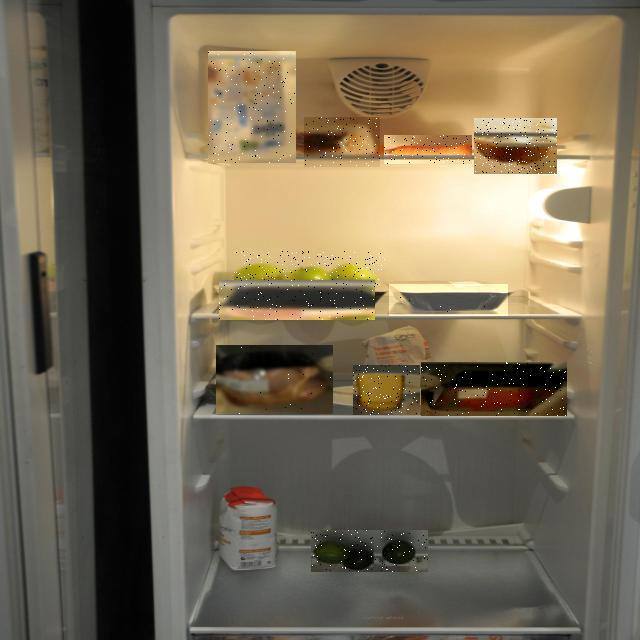apple: (41, 144, 426, 430)
carrot: (148, 82, 620, 246)
cheese: (143, 208, 563, 622)
egg: (195, 87, 640, 261)
milk: (60, 82, 356, 245)
